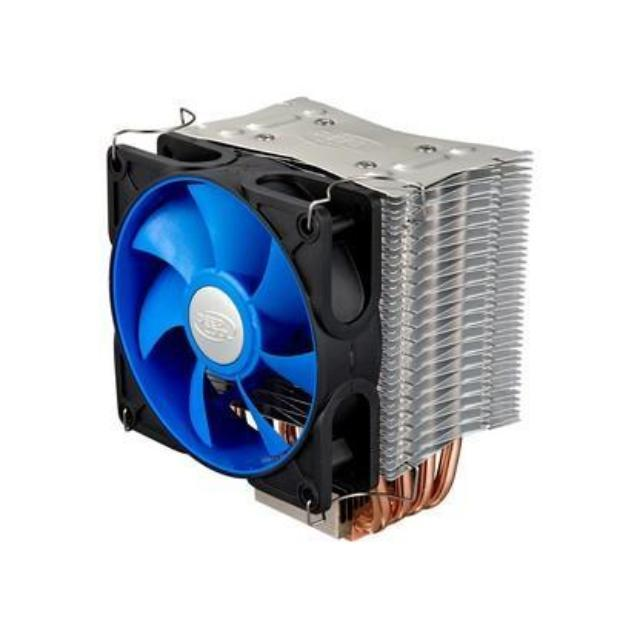CPU_Fan: (106, 89, 526, 537)
